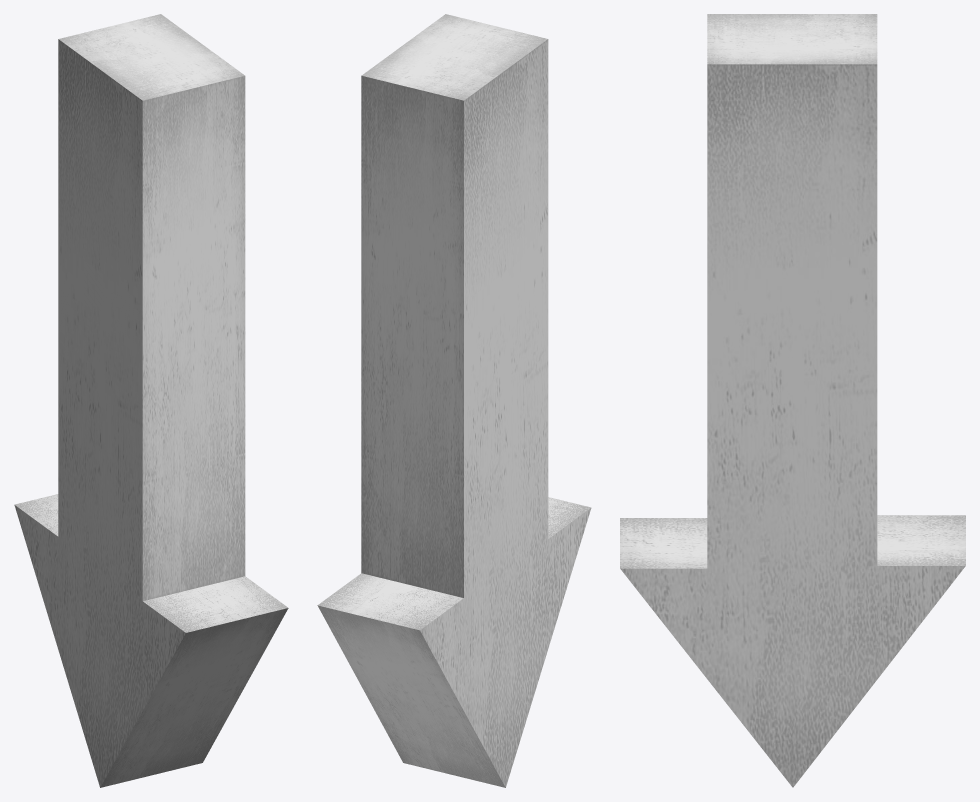
Rendered from Arrow.glb.
3 views of the same model, side by side, from view 1: azimuth 30°, elevation 25°; view 2: azimuth 150°, elevation 25°; view 3: azimuth 270°, elevation 25° (orthographic).
Visible parts, largest first — view 1: mesh_CityEngineShapeMaterial; view 2: mesh_CityEngineShapeMaterial; view 3: mesh_CityEngineShapeMaterial.
Part boxes in pixels (x1=…): mesh_CityEngineShapeMaterial: x1=14, y1=14, x2=288, y2=787; mesh_CityEngineShapeMaterial: x1=317, y1=14, x2=591, y2=787; mesh_CityEngineShapeMaterial: x1=620, y1=14, x2=965, y2=787.
Bounding box in the file's own units: 68.44 × 458 × 198.
1 material, 1 textured.
